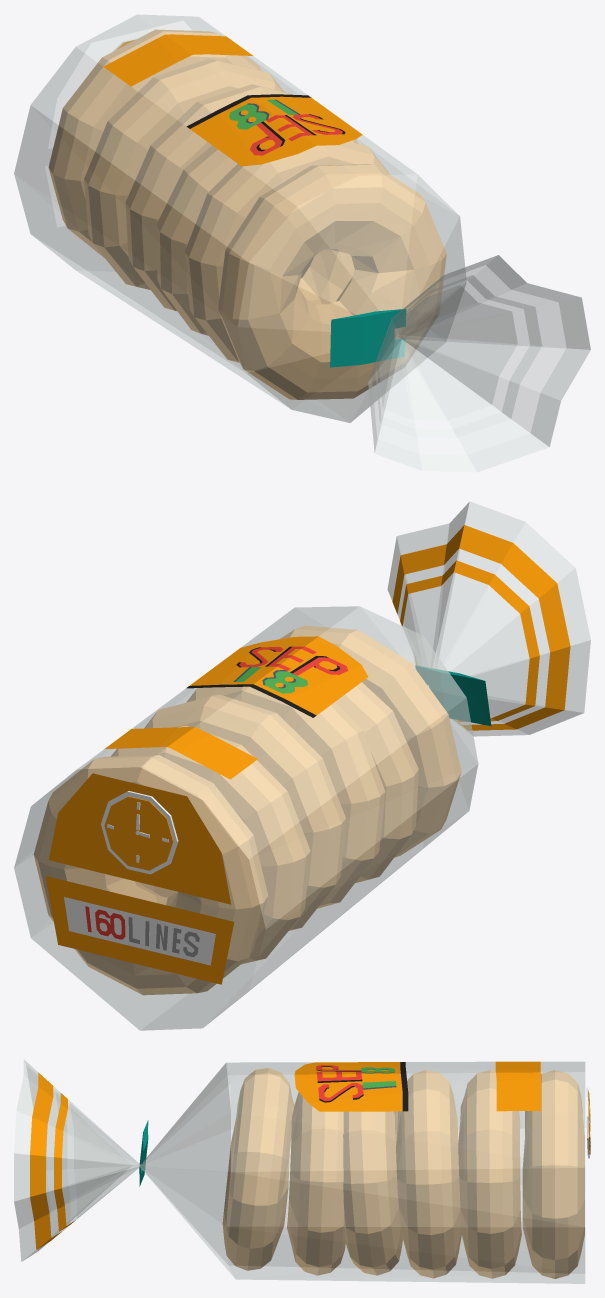
Rendered from TIME HOTEL 3.18.glb.
The picture shows the model from 3 angles, top to bottom: view 1: azimuth 30°, elevation 25°; view 2: azimuth 150°, elevation 25°; view 3: azimuth 270°, elevation 25°; orthographic projection. The views are drawn at different scales.
Parts seen in each view (by area): view 1: group1761942389, group63069892, group421235177, group1315881943, group1860215972, group2120899120, group1277027227, group916662601, group1631040901; view 2: group1761942389, group421235177, group2120899120, group1277027227, group1315881943, group63069892, group916662601, group1860215972, group1346476416, group1631040901; view 3: group1761942389, group421235177, group1277027227, group2120899120, group63069892, group1315881943, group1860215972, group916662601, group1631040901.
Part boxes in pixels (x1,y1,x2,y2): group1761942389: (14, 14, 466, 422); group63069892: (218, 164, 446, 399); group421235177: (368, 255, 590, 472); group1315881943: (84, 59, 284, 289); group1860215972: (184, 141, 389, 362); group2120899120: (48, 29, 261, 257); group1277027227: (125, 84, 293, 310); group916662601: (156, 139, 358, 335); group1631040901: (330, 309, 406, 367); group1761942389: (14, 606, 478, 1030); group421235177: (387, 501, 590, 736); group2120899120: (33, 755, 268, 995); group1277027227: (144, 694, 345, 930); group1315881943: (111, 725, 310, 964); group63069892: (280, 626, 461, 857); group916662601: (186, 686, 385, 908); group1860215972: (335, 682, 418, 882); group1346476416: (101, 791, 178, 874); group1631040901: (415, 665, 491, 725); group1761942389: (140, 1061, 585, 1283); group421235177: (14, 1059, 140, 1261); group1277027227: (396, 1070, 461, 1278); group2120899120: (522, 1070, 584, 1278); group63069892: (222, 1068, 294, 1270); group1315881943: (458, 1070, 521, 1278); group1860215972: (287, 1092, 345, 1275); group916662601: (343, 1111, 402, 1275); group1631040901: (139, 1120, 148, 1186).
Bounding box in the file's own units: 1.32 × 1.34 × 3.25.
